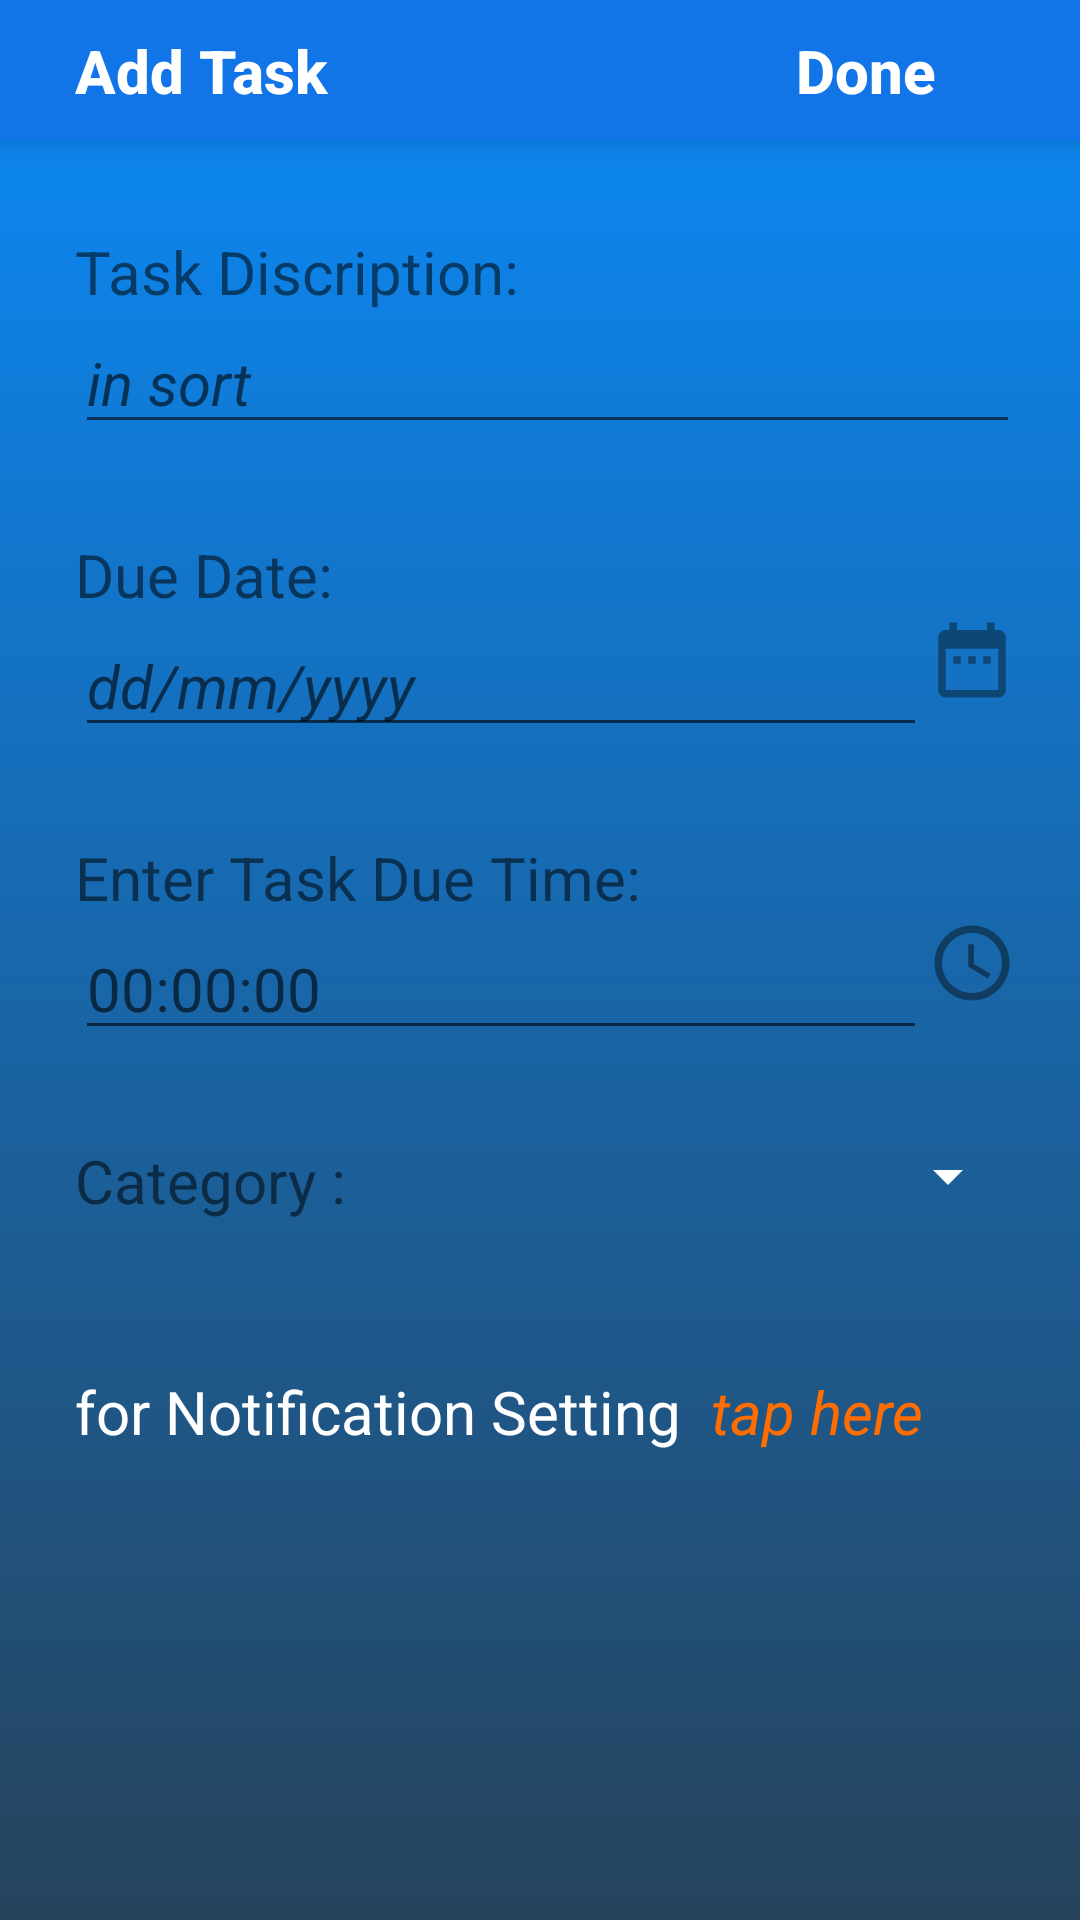

Icon bounding boxes for this 1080px x 1920px phone screenshot, format bbox=[x1, y1, x2, y2]:
calender: bbox=[938, 622, 1006, 698]
time: bbox=[934, 925, 1010, 1001]
